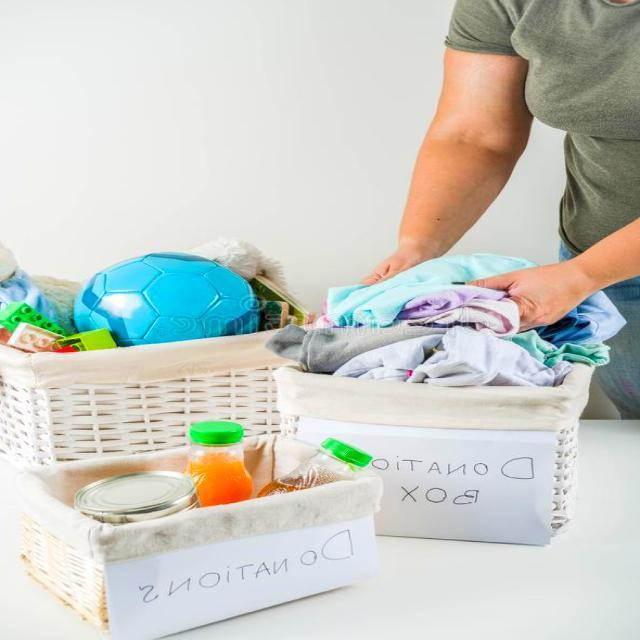clothes: (330, 308, 503, 380)
